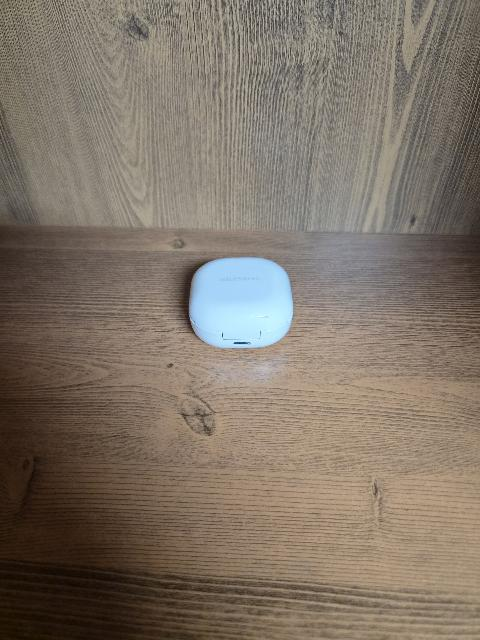earphone_case: (188, 257, 293, 349)
